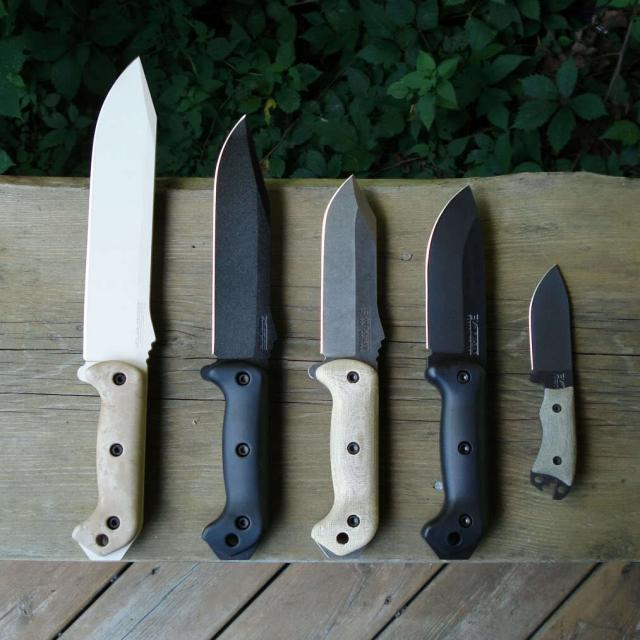Knife: (72, 58, 156, 561), (201, 118, 275, 559), (310, 176, 384, 556), (422, 186, 489, 558), (529, 265, 576, 498)
